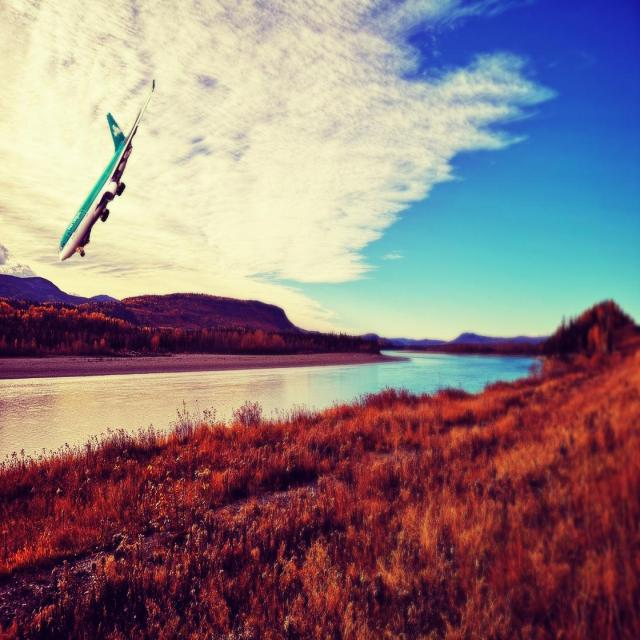airplane: (57, 78, 155, 261)
